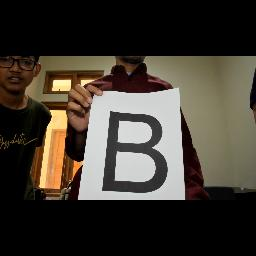b: (102, 110, 176, 198)
